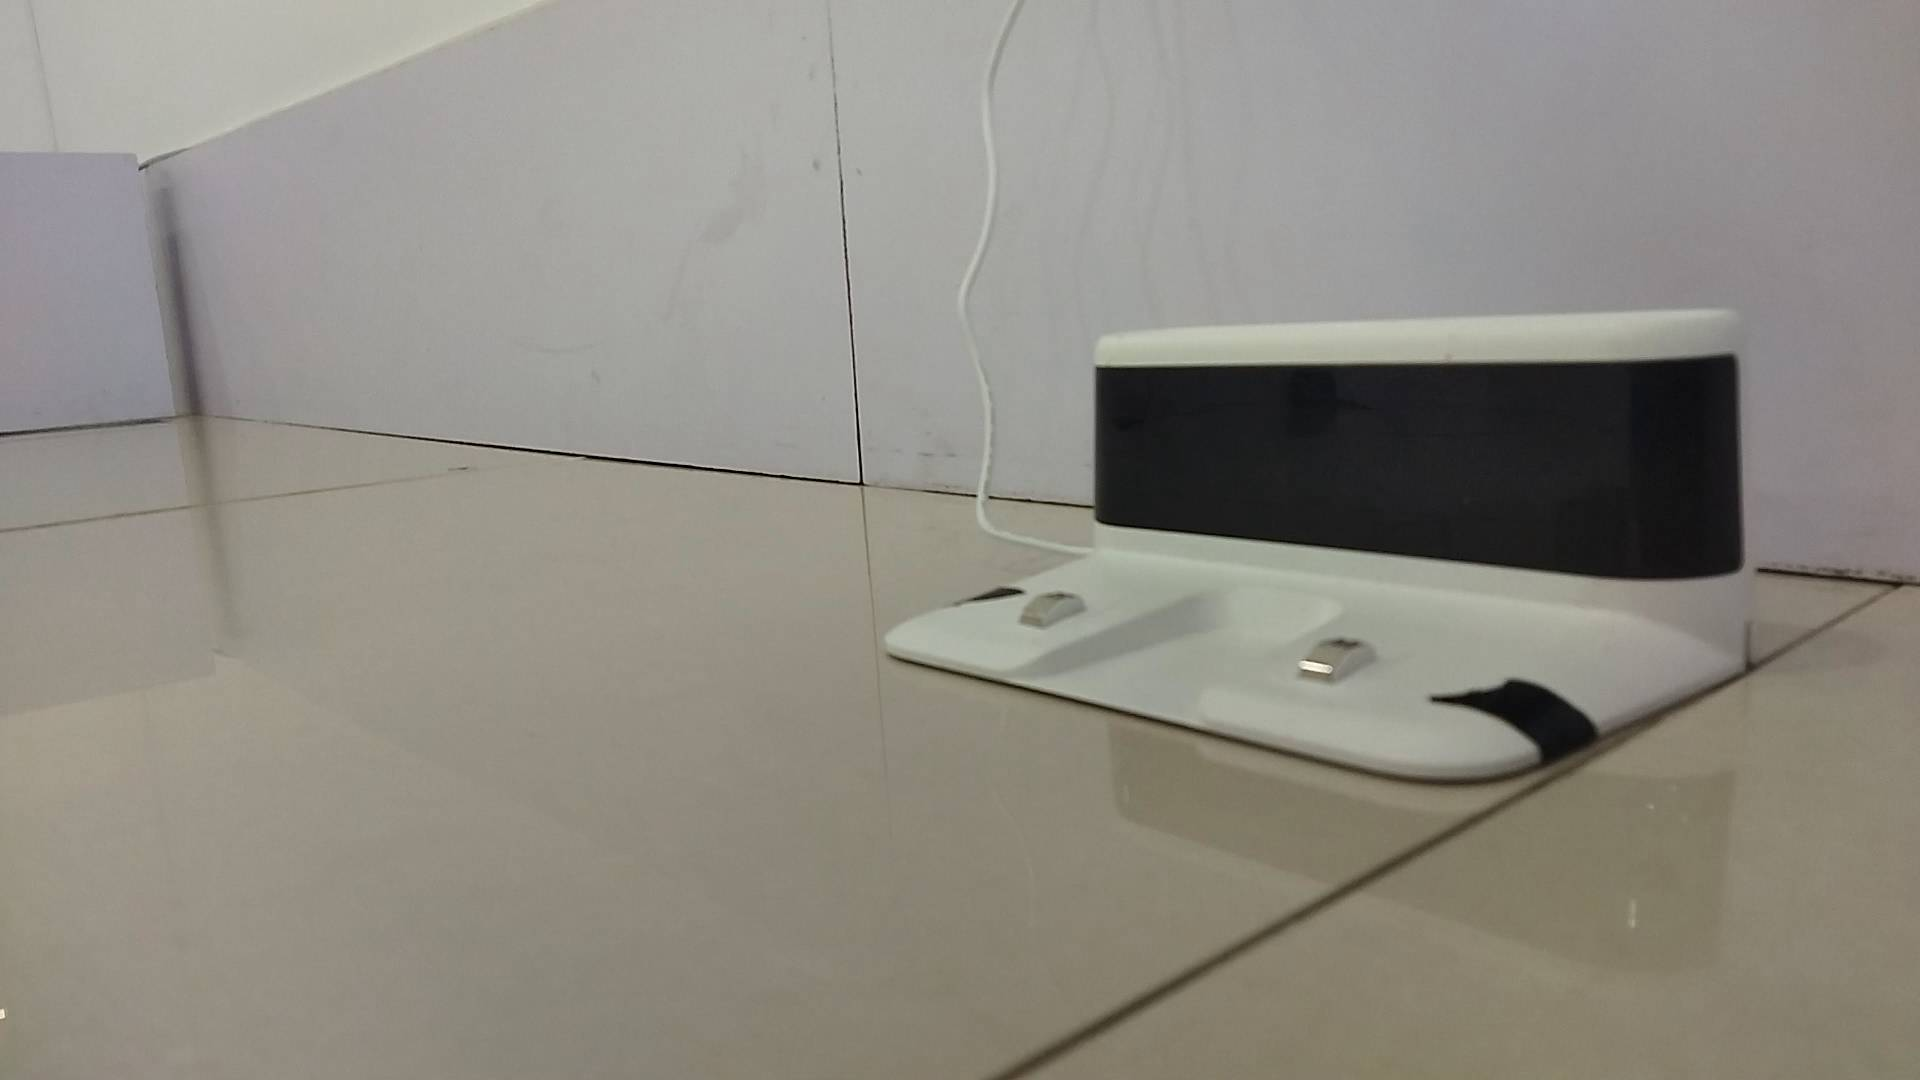recharge seat: (884, 309, 1755, 785)
